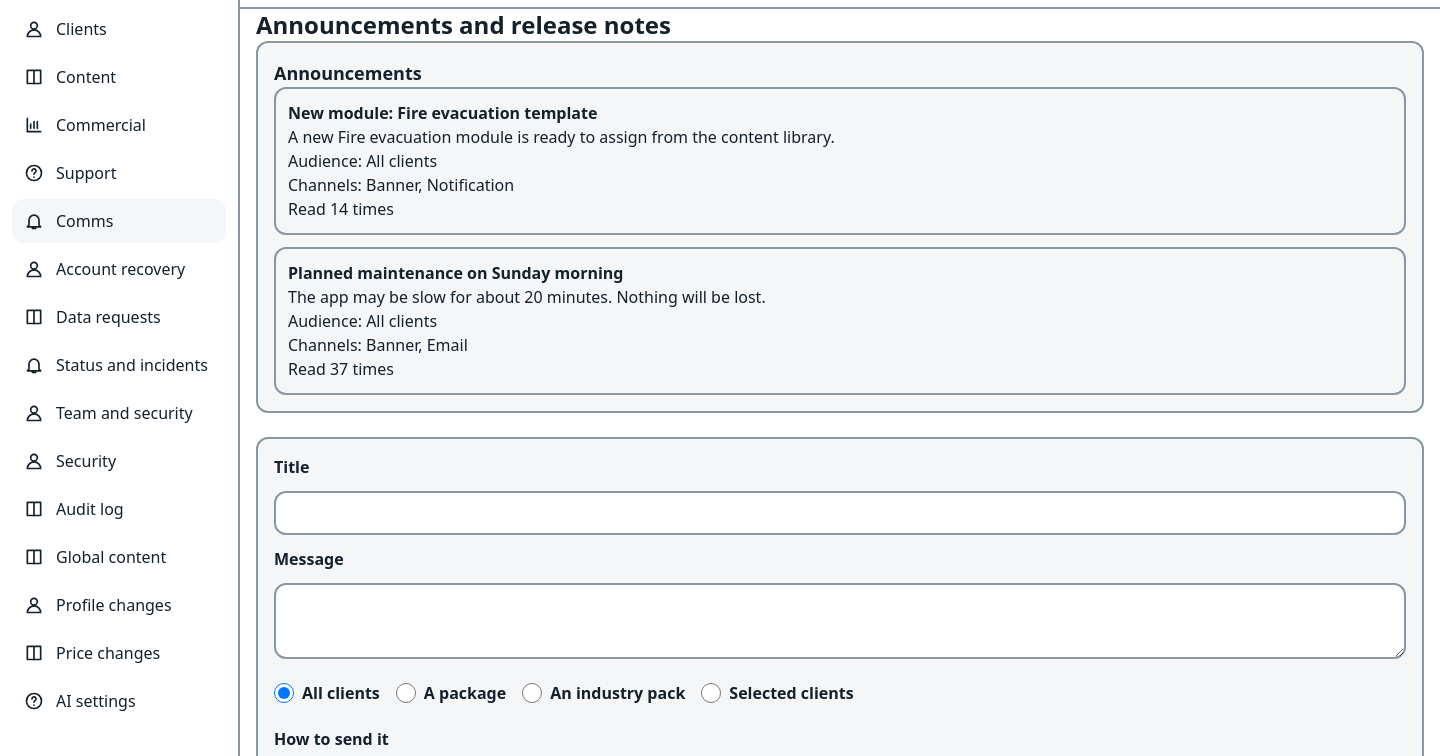
Scenario: P14 Announcements and release notes › updates the preview as the title and message are typed
Type "Quiet week ahead" into the field labelled "Title". click: [840, 513]
box: left=274, top=491, right=1406, bottom=535
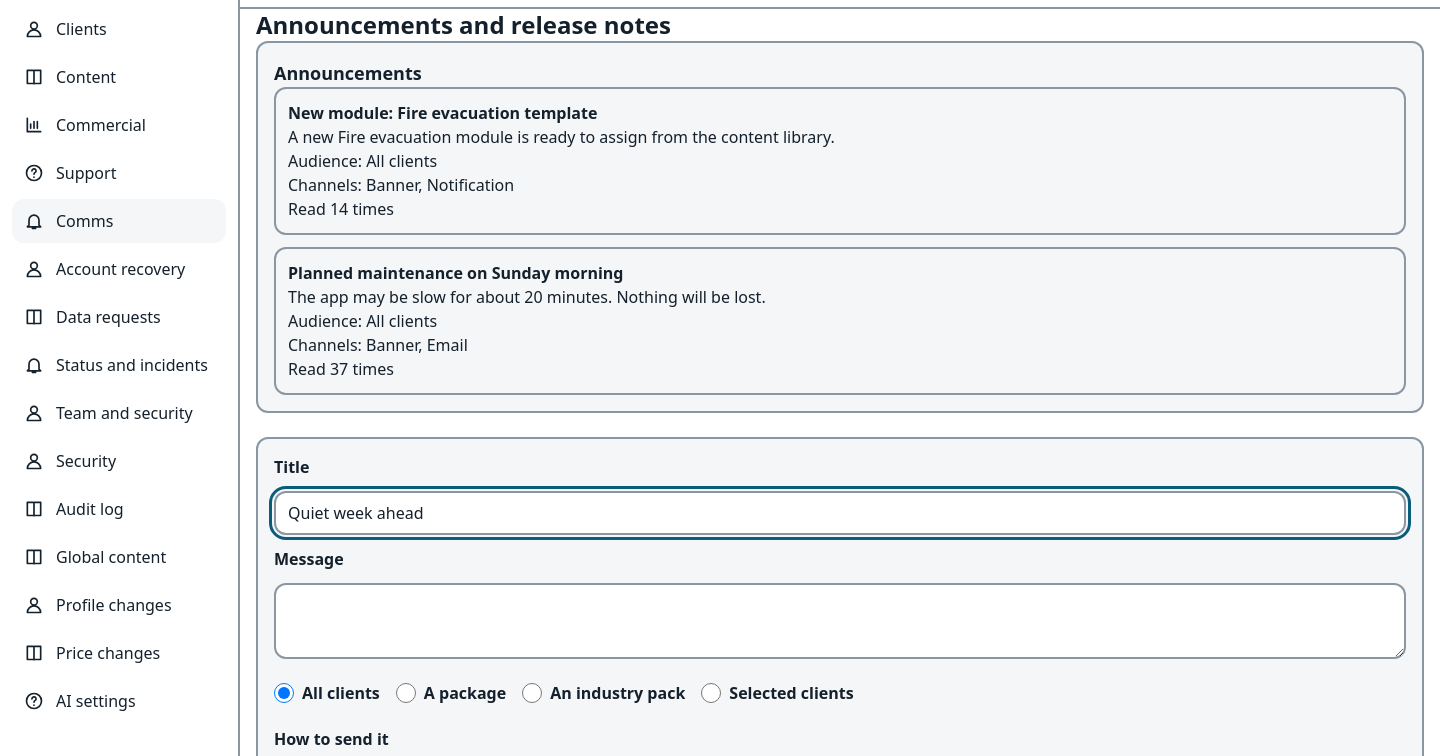
Type "Nothing to do." into the text box labelled "Message". click: [840, 621]
box: left=274, top=583, right=1406, bottom=659
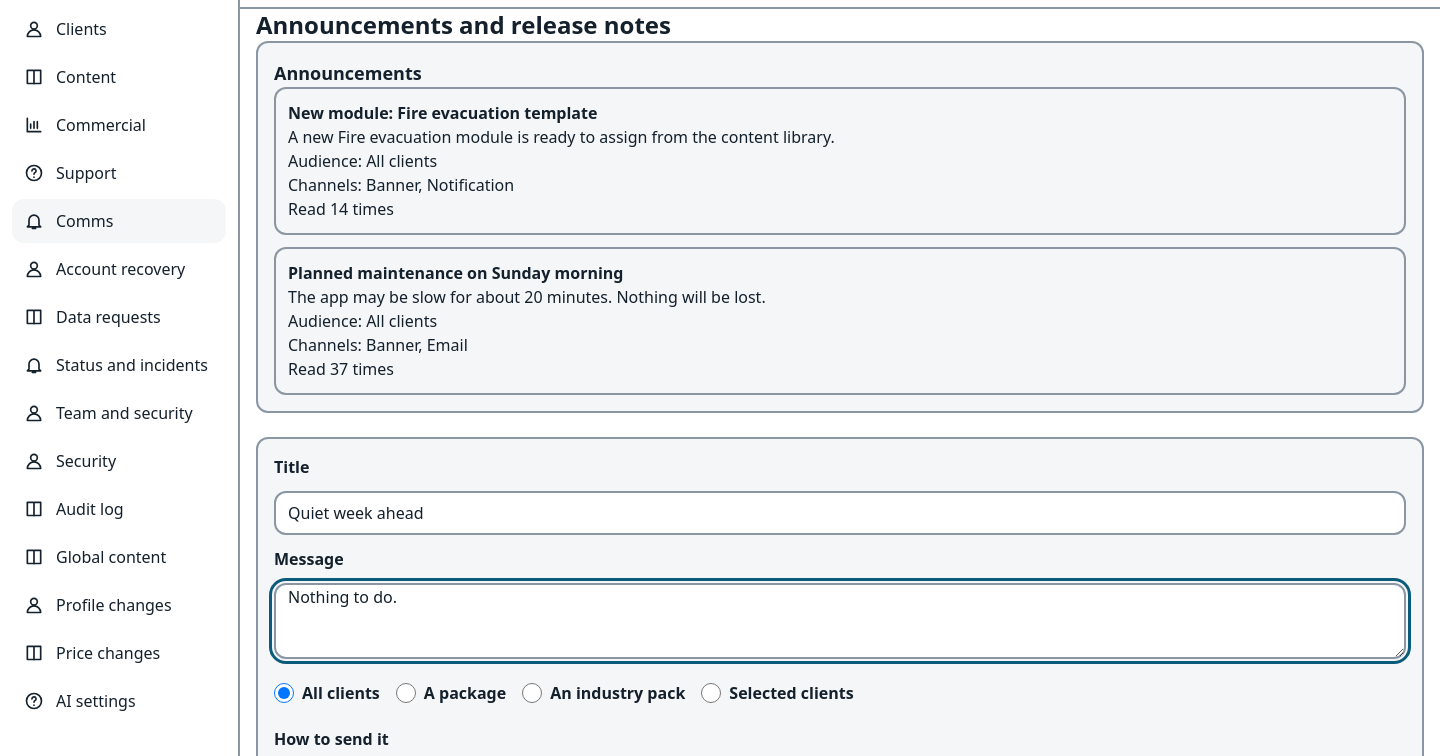
Type "!" into the field labelled "Title". click: [840, 513]
box: left=274, top=491, right=1406, bottom=535
(page scrolled)
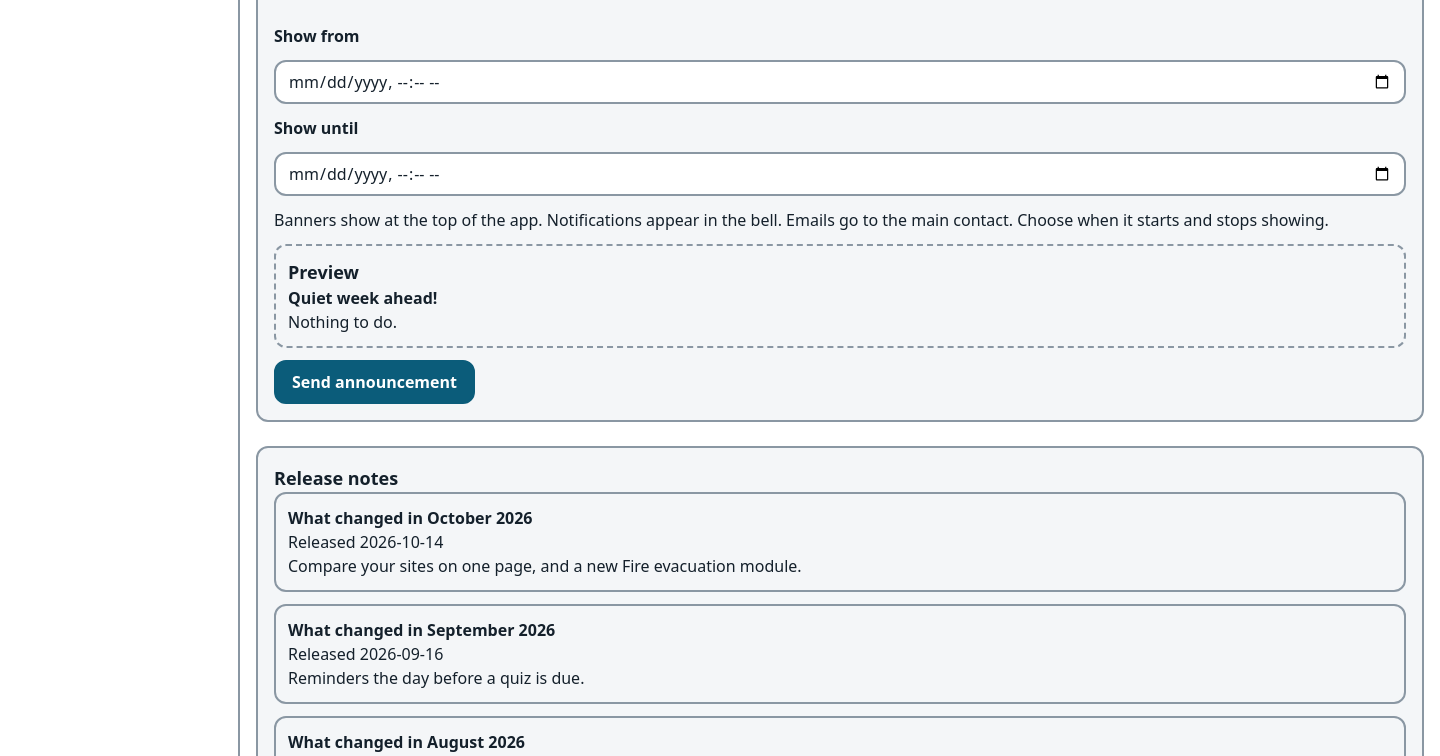
Now the element with test id "announcement-preview" shows "Quiet week ahead!", box left=288, top=287, right=437, bottom=309
